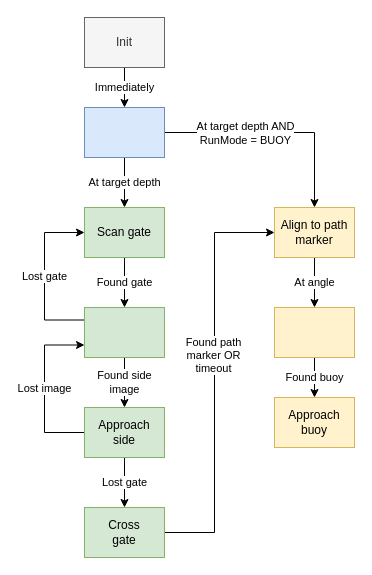
The diagram is 372 pixels wide and 575 high, and some of its shapes have lost their labels. The centre of each missing label's shape, as x and y in pixels:
Approach gate: the point at 124,332
Forward buoy: the point at 314,332
Submerge: the point at 124,132
